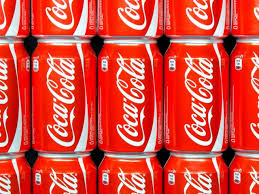coke: (113, 51, 153, 147), (179, 52, 214, 150), (44, 54, 81, 146), (115, 1, 150, 32), (47, 163, 80, 194), (41, 1, 77, 29), (185, 1, 216, 32), (183, 169, 215, 191), (114, 170, 147, 191)
